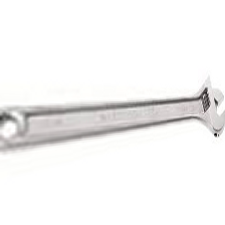Wrench: (1, 73, 225, 149)
